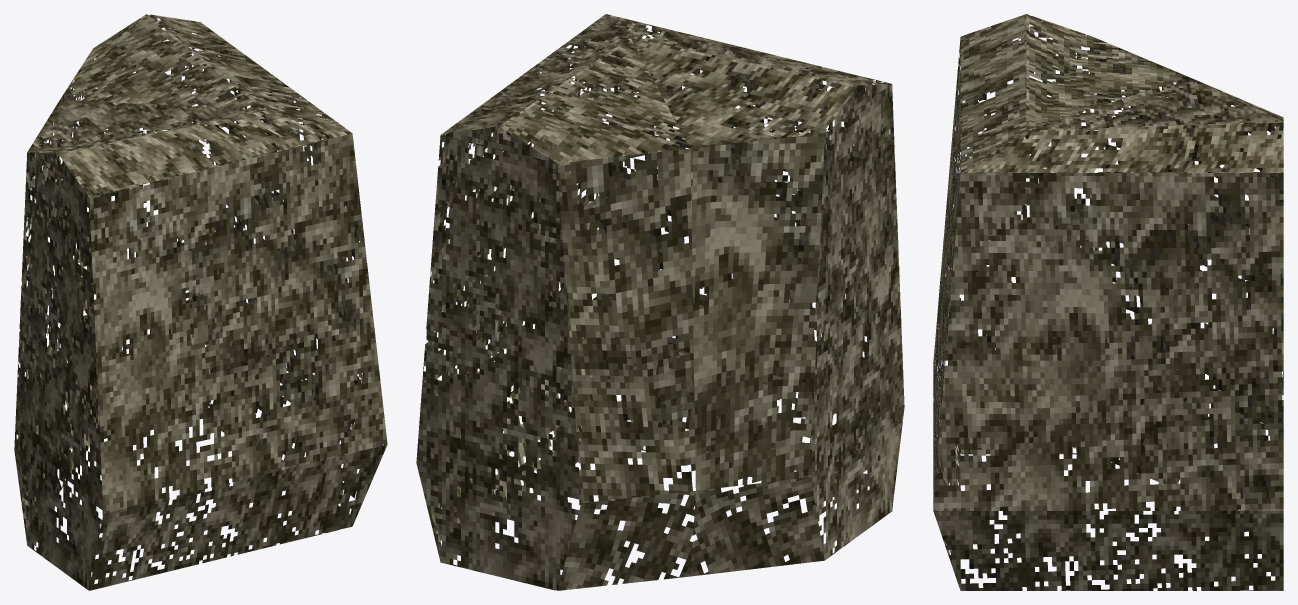
File: bush_long_square_corner_filled_dead.glb
3 renders of one model, left to right at view 1: azimuth 30°, elevation 25°; view 2: azimuth 150°, elevation 25°; view 3: azimuth 270°, elevation 25°, orthographic. The views are drawn at different scales.
Parts seen in each view (by area): view 1: bush_long_square_corner_filled_dead; view 2: bush_long_square_corner_filled_dead; view 3: bush_long_square_corner_filled_dead.
Part boxes in pixels (box(x1,y1,x2,y2)): bush_long_square_corner_filled_dead: box(14, 14, 387, 590); bush_long_square_corner_filled_dead: box(416, 14, 904, 590); bush_long_square_corner_filled_dead: box(933, 14, 1283, 590).
Bounding box in the file's own units: 1.35 × 1.88 × 1.35.
Materials: 1 (1 with a texture image).
